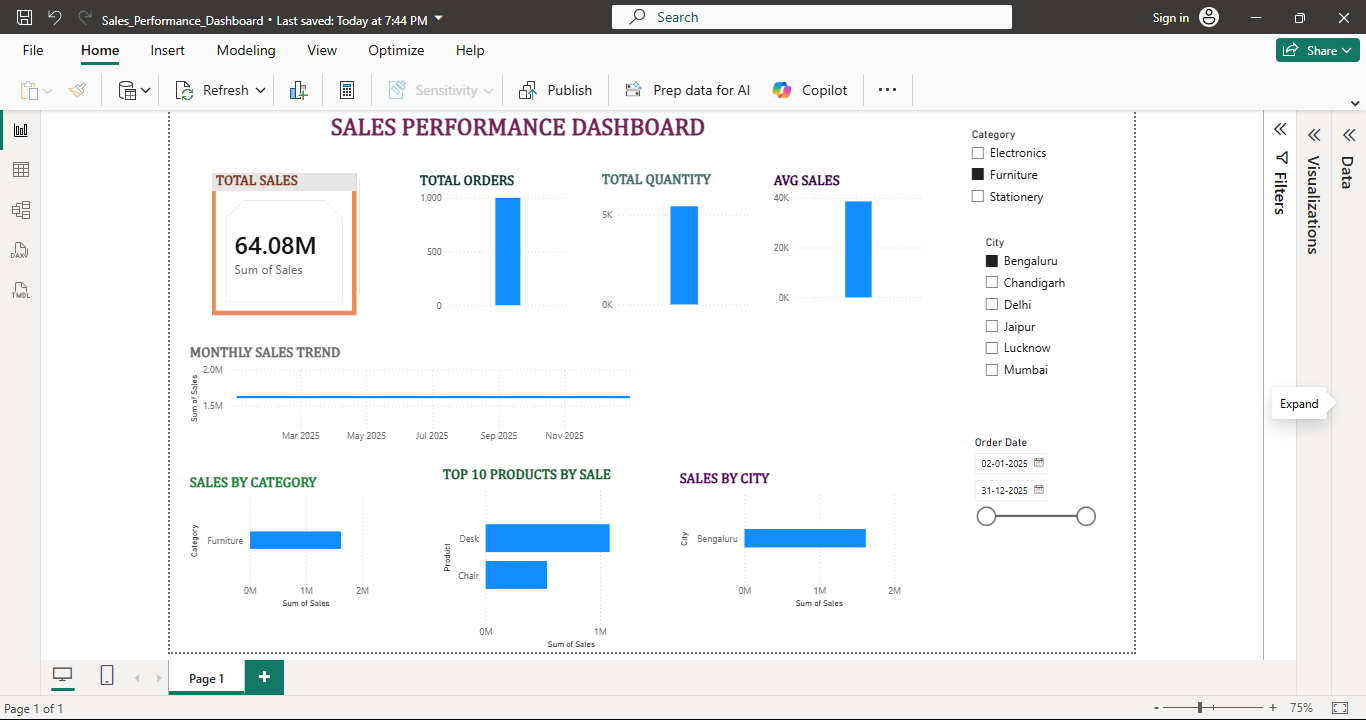

What the dashboard file says about the page in this screenshot:
{"tool":"powerbi","page":{"name":"Page 1","canvas":[1280,720],"ordinal":0},"visuals":[{"type":"cardVisual","fields":{"Data":["Sum(SalesData.Sales)"]},"box":[78.2,74.7,192,188.5],"z":0},{"type":"textbox","box":[104,339,375,267],"z":1},{"type":"cardVisual","title":"TOTAL SALES","fields":{"Data":["Sum(SalesData.Sales)"]},"box":[56.3,83.9,192,188.5],"z":2},{"type":"clusteredColumnChart","title":"TOTAL ORDERS","fields":{"Y":["CountNonNull(SalesData.Order ID)"]},"box":[326.4,83.9,206.9,189.7],"z":5},{"type":"clusteredColumnChart","title":"TOTAL QUANTITY","fields":{"Y":["Sum(SalesData.Quantity)"]},"box":[568.5,83,207,190],"z":6},{"type":"clusteredColumnChart","title":"AVG SALES","fields":{"Y":["Avg(SalesData (3).Sales)"]},"box":[796.6,83.9,206.9,179.3],"z":7},{"type":"lineChart","title":"MONTHLY SALES TREND","fields":{"Y":["Sum(SalesData (3).Sales)"],"Category":["SalesData.Order Date"]},"box":[20.7,312.6,619.5,139.1],"z":8},{"type":"barChart","title":"TOP 10 PRODUCTS BY SALE","fields":{"Category":["SalesData (3).Product"],"Y":["Sum(SalesData (3).Sales)"]},"box":[358,474,304,246],"z":9},{"type":"clusteredBarChart","title":"SALES BY CITY","fields":{"Category":["SalesData (3).City"],"Y":["Sum(SalesData (3).Sales)"]},"box":[672,480,304,186],"z":10},{"type":"slicer","fields":{"Values":["SalesData (3).Category"]},"box":[1052,18,228,132],"z":11},{"type":"slicer","fields":{"Values":["SalesData (3).City"]},"box":[1070.1,162.1,156.3,219.5],"z":12},{"type":"slicer","fields":{"Values":["SalesData.Order Date"]},"box":[1056,428,182,180],"z":13},{"type":"textbox","box":[208,0,603.4,58.6],"z":14},{"type":"barChart","title":"SALES BY CATEGORY","fields":{"Category":["SalesData (3).Category"],"Y":["Sum(SalesData (3).Sales)"]},"box":[21.8,485.1,248.3,180.5],"z":15}]}

Visuals, with their boxes on the page's 1280x720 design canvas (x1, y1, x2, y2). These are canvas units, not pixel positions in the 1366x720 screenshot, which may show the page scaled, cropped or inside an application window:
cardVisual - Sum(SalesData.Sales): 78/75/270/263
textbox: 104/339/479/606
"TOTAL SALES" cardVisual: 56/84/248/272
"TOTAL ORDERS" clusteredColumnChart: 326/84/533/274
"TOTAL QUANTITY" clusteredColumnChart: 568/83/776/273
"AVG SALES" clusteredColumnChart: 797/84/1004/263
"MONTHLY SALES TREND" lineChart: 21/313/640/452
"TOP 10 PRODUCTS BY SALE" barChart: 358/474/662/720
"SALES BY CITY" clusteredBarChart: 672/480/976/666
slicer - SalesData (3).Category: 1052/18/1280/150
slicer - SalesData (3).City: 1070/162/1226/382
slicer - SalesData.Order Date: 1056/428/1238/608
textbox: 208/0/811/59
"SALES BY CATEGORY" barChart: 22/485/270/666
